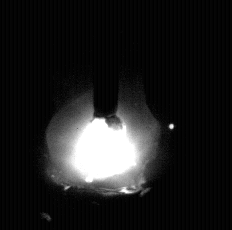arame: (94, 0, 120, 130)
poca: (46, 0, 159, 230)
